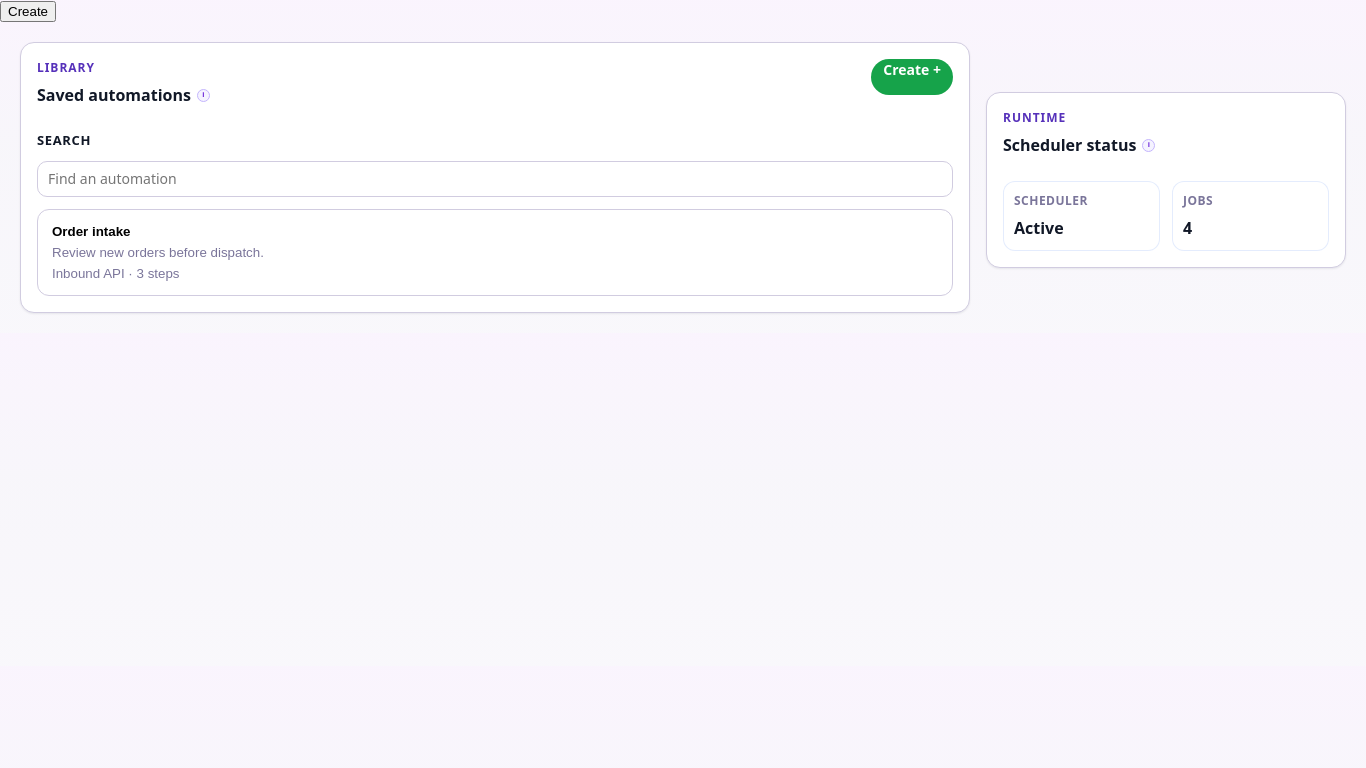
Test: automation stable ids › renders library ids for title rows and detail stats
expect the element with id "automations-library-list-title-row" is shown: met, box [37,83,210,107]
expect the element with id "automations-library-runtime-title-row" is shown: met, box [1003,133,1155,157]
Step 1. Click the list item with id "automations-library-item-automation-order-intake" → click(91, 231), box [37,208,953,296]
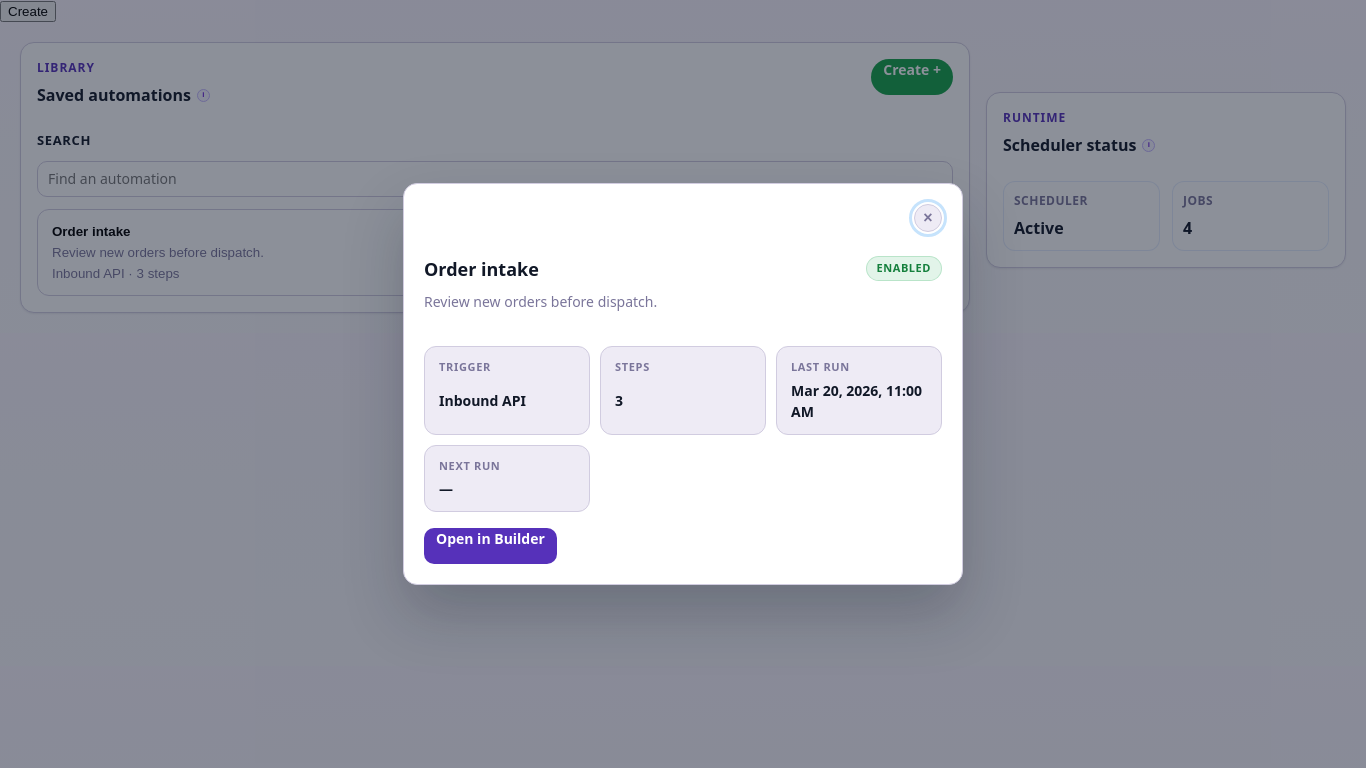
expect the dialog is shown: met, box [403,183,963,585]
expect the text with id "automations-library-detail-stat-trigger-label" reads "Trigger": met, box [439,359,491,374]
expect the text with id "automations-library-detail-stat-trigger-value" reads "Inbound API": met, box [439,391,526,410]
